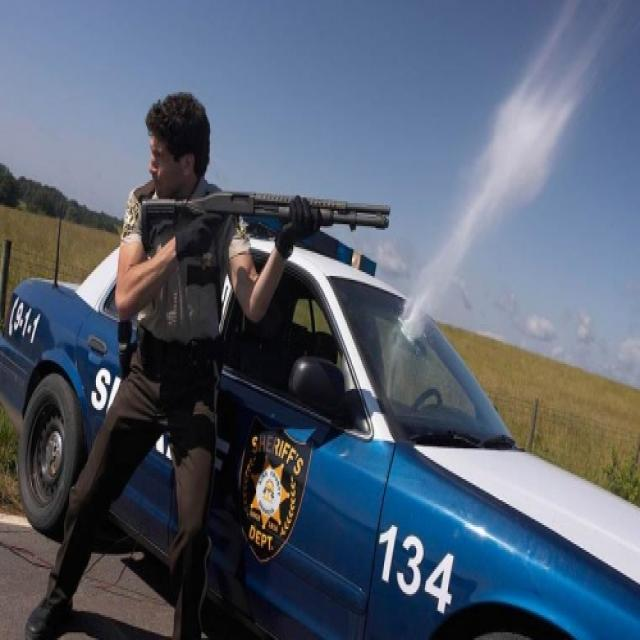rifle: (137, 191, 395, 254)
